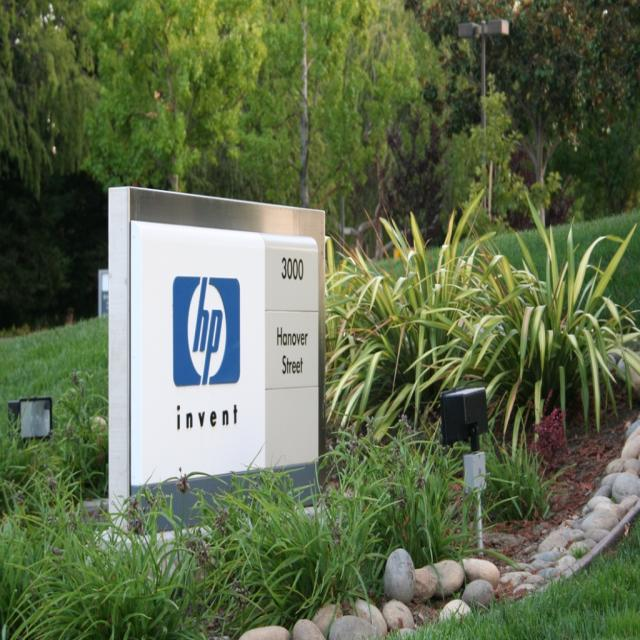HP: (171, 273, 244, 391)
